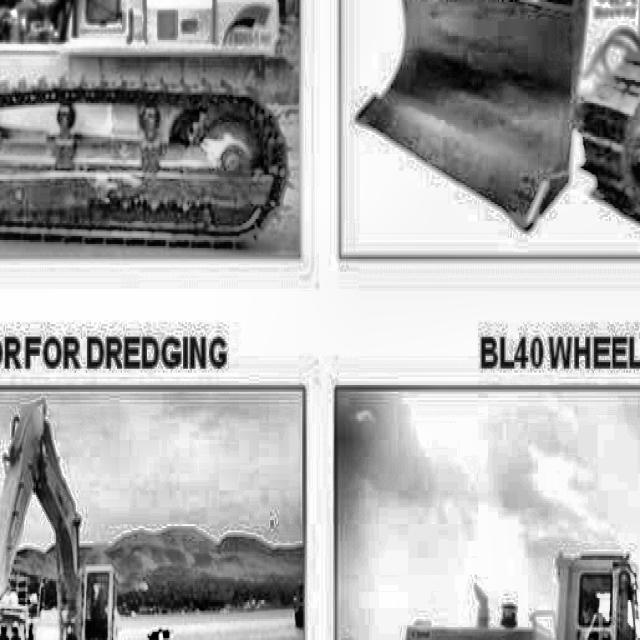buldozerpayloadergrader: (0, 0, 295, 238), (371, 406, 640, 640), (361, 0, 640, 223)
